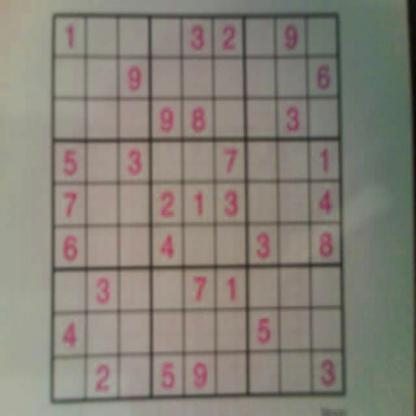sudoku: (47, 6, 349, 409)
